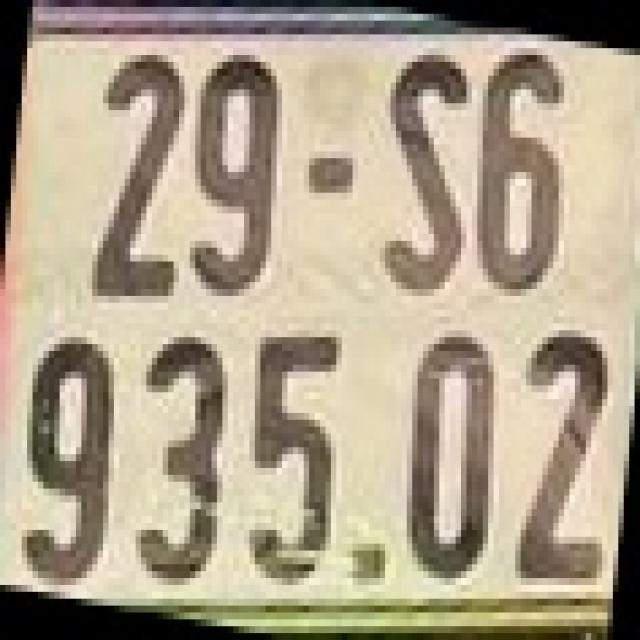0: (401, 323, 499, 585)
2: (86, 41, 185, 303), (515, 323, 613, 585)
3: (136, 330, 228, 585)
5: (244, 323, 342, 585)
6: (478, 48, 570, 289)
9: (16, 330, 120, 585), (185, 48, 288, 296)
S: (380, 48, 472, 296)
